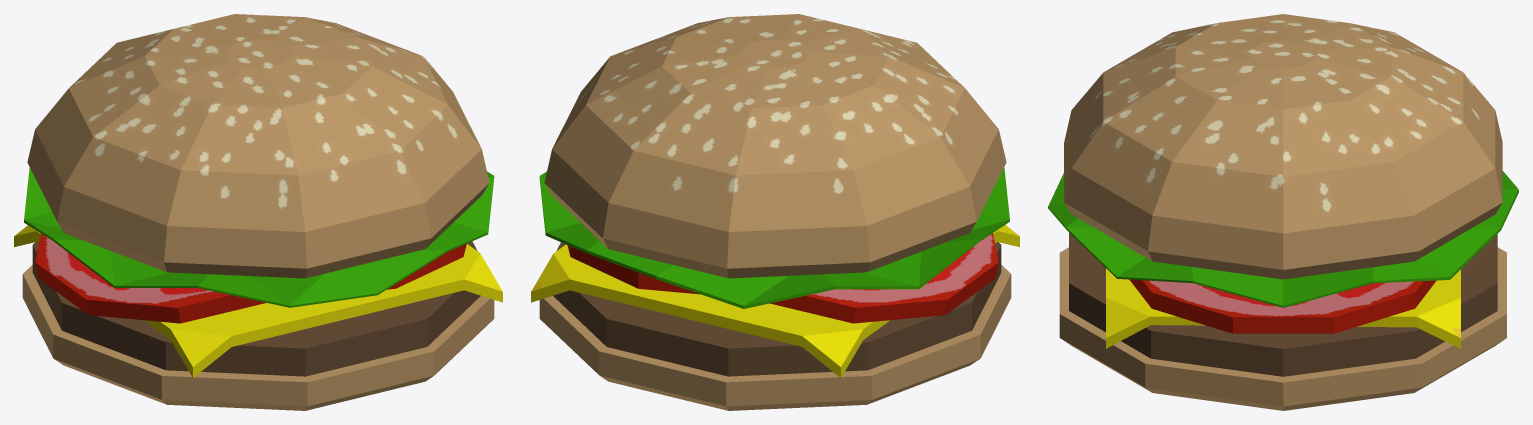
File: neoburger.gltf
The picture shows the model from 3 angles, left to right: view 1: azimuth 30°, elevation 25°; view 2: azimuth 150°, elevation 25°; view 3: azimuth 270°, elevation 25°; orthographic projection.
Visible parts, largest first — view 1: node-0; view 2: node-0; view 3: node-0.
Boxes of the visible parts, x1=… form: node-0: x1=14, y1=14, x2=502, y2=410; node-0: x1=531, y1=14, x2=1019, y2=410; node-0: x1=1048, y1=14, x2=1518, y2=410.
Size of the model in its own units: 2.25 by 1.38 by 2.25.
Materials: 1 (1 with a texture image).
